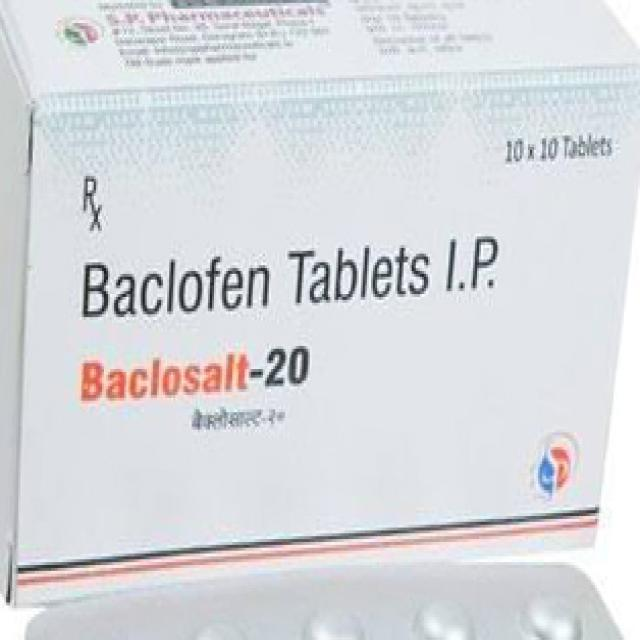drug-name: (70, 336, 316, 406)
